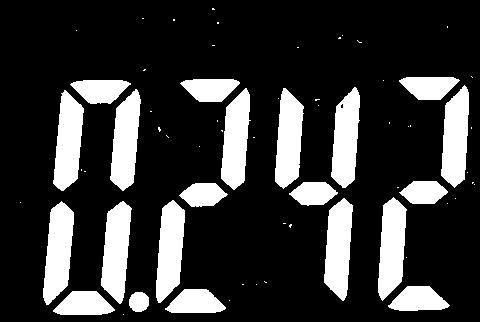0: (41, 67, 142, 319)
2: (373, 69, 474, 316), (156, 71, 257, 317)
4: (273, 81, 365, 307)
dot: (127, 288, 151, 313)
